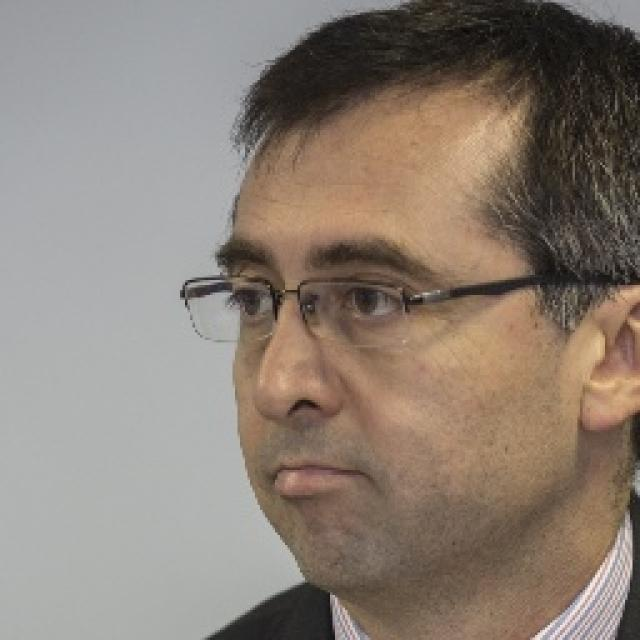earlobe: (579, 396, 640, 439)
eye: (338, 282, 416, 321), (230, 286, 277, 322)
nose: (266, 409, 334, 451)
wholeear: (583, 280, 640, 432)
